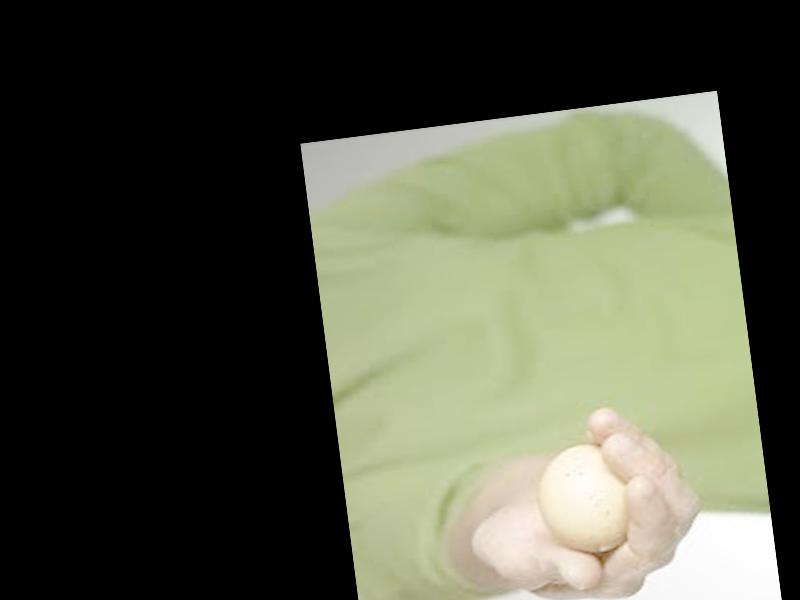Eggs: (533, 439, 634, 557)
